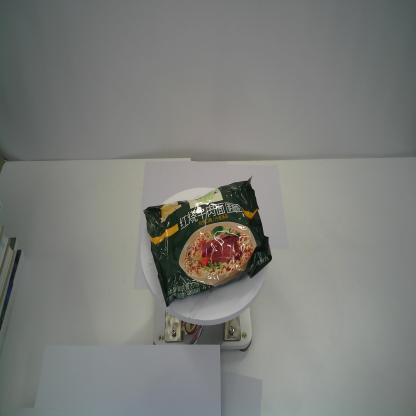Instant Noodles: (142, 174, 273, 310)
